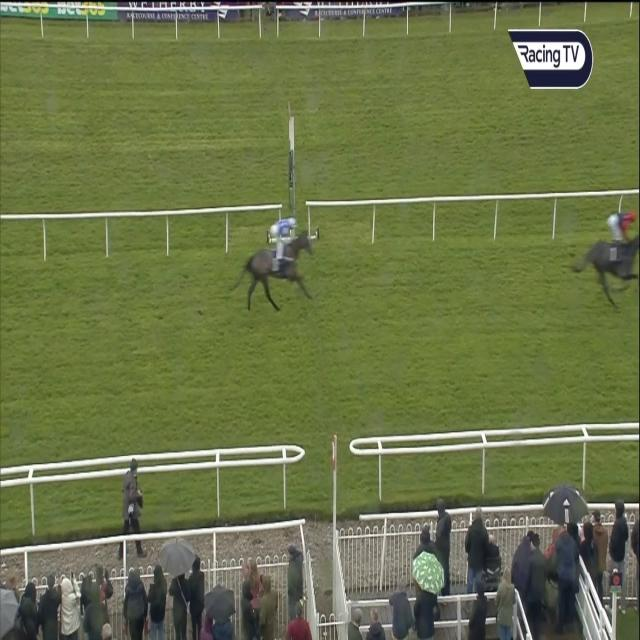horses-racing: (570, 202, 640, 306), (249, 214, 314, 320)
